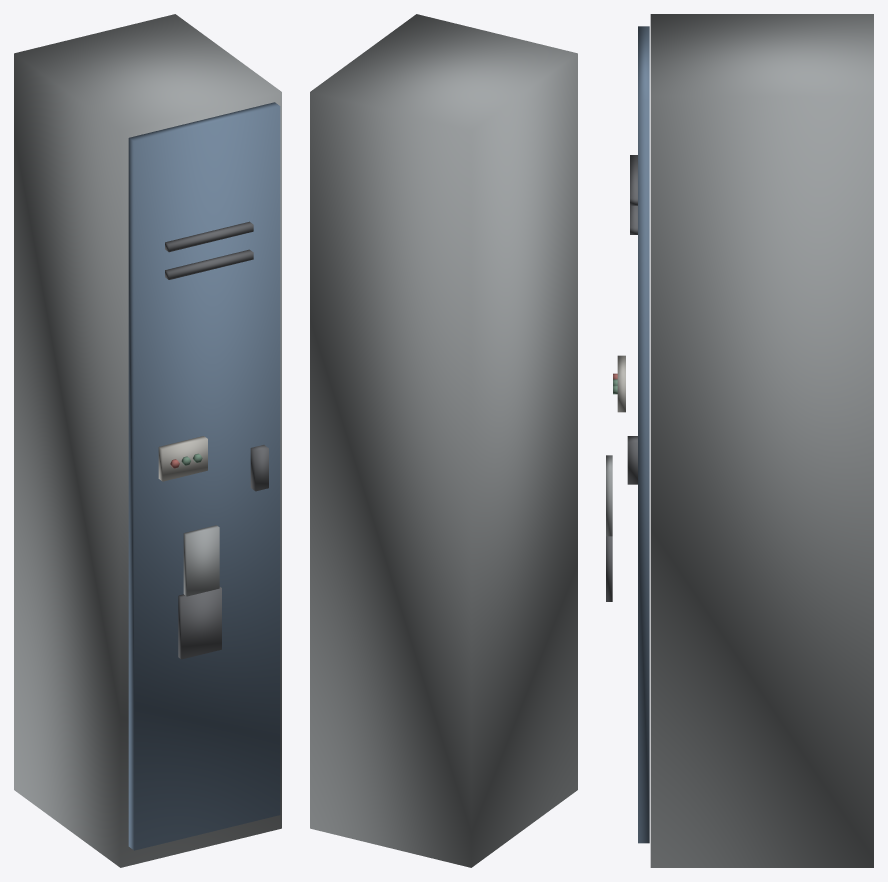
The model's file is single_locker__weathered.glb.
The picture shows the model from 3 angles, left to right: view 1: azimuth 30°, elevation 25°; view 2: azimuth 150°, elevation 25°; view 3: azimuth 270°, elevation 25°; orthographic projection. The views are drawn at different scales.
Visible parts, largest first — view 1: world; view 2: world; view 3: world.
Boxes of the visible parts, left/top/right/bottom form: world: left=14, top=14, right=281, bottom=867; world: left=310, top=14, right=577, bottom=867; world: left=606, top=14, right=873, bottom=867.
Size of the model in its own units: 0.42 by 1.83 by 0.576.
